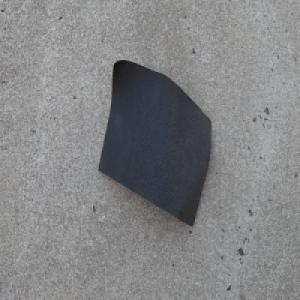PaintChip: (97, 60, 212, 229)
